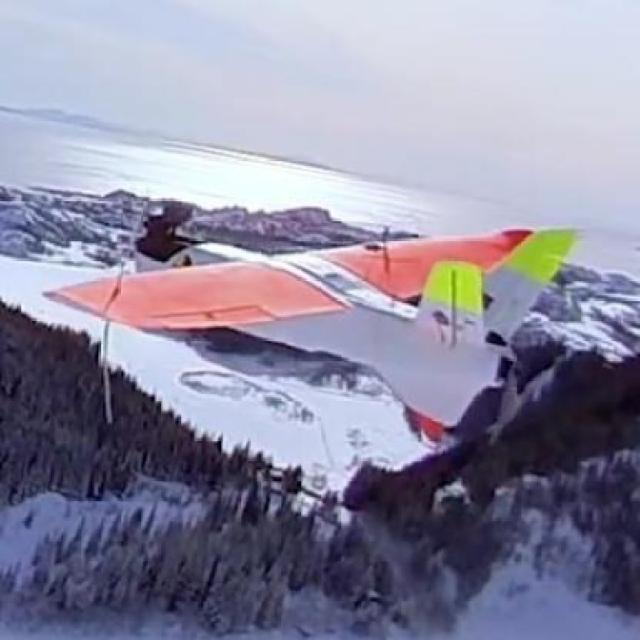iha: (28, 182, 600, 451)
